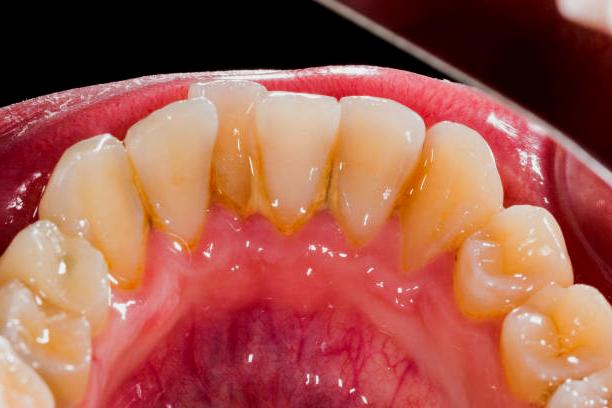Calculus: (378, 108, 499, 272), (28, 161, 162, 299), (241, 115, 350, 230), (180, 84, 268, 220)
